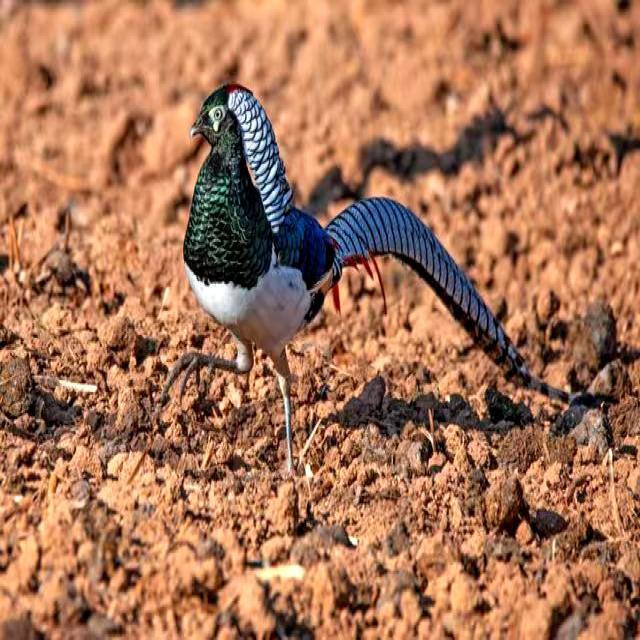Chrysolophus amherstiae: (324, 197, 560, 394)
